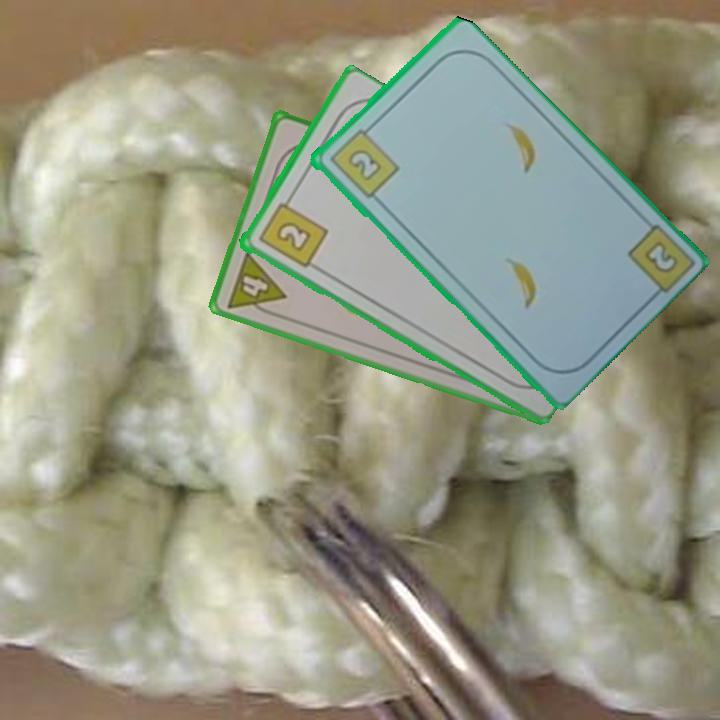2b: (325, 121, 401, 201), (254, 192, 330, 271), (640, 237, 680, 277)
4p: (222, 248, 289, 321)
